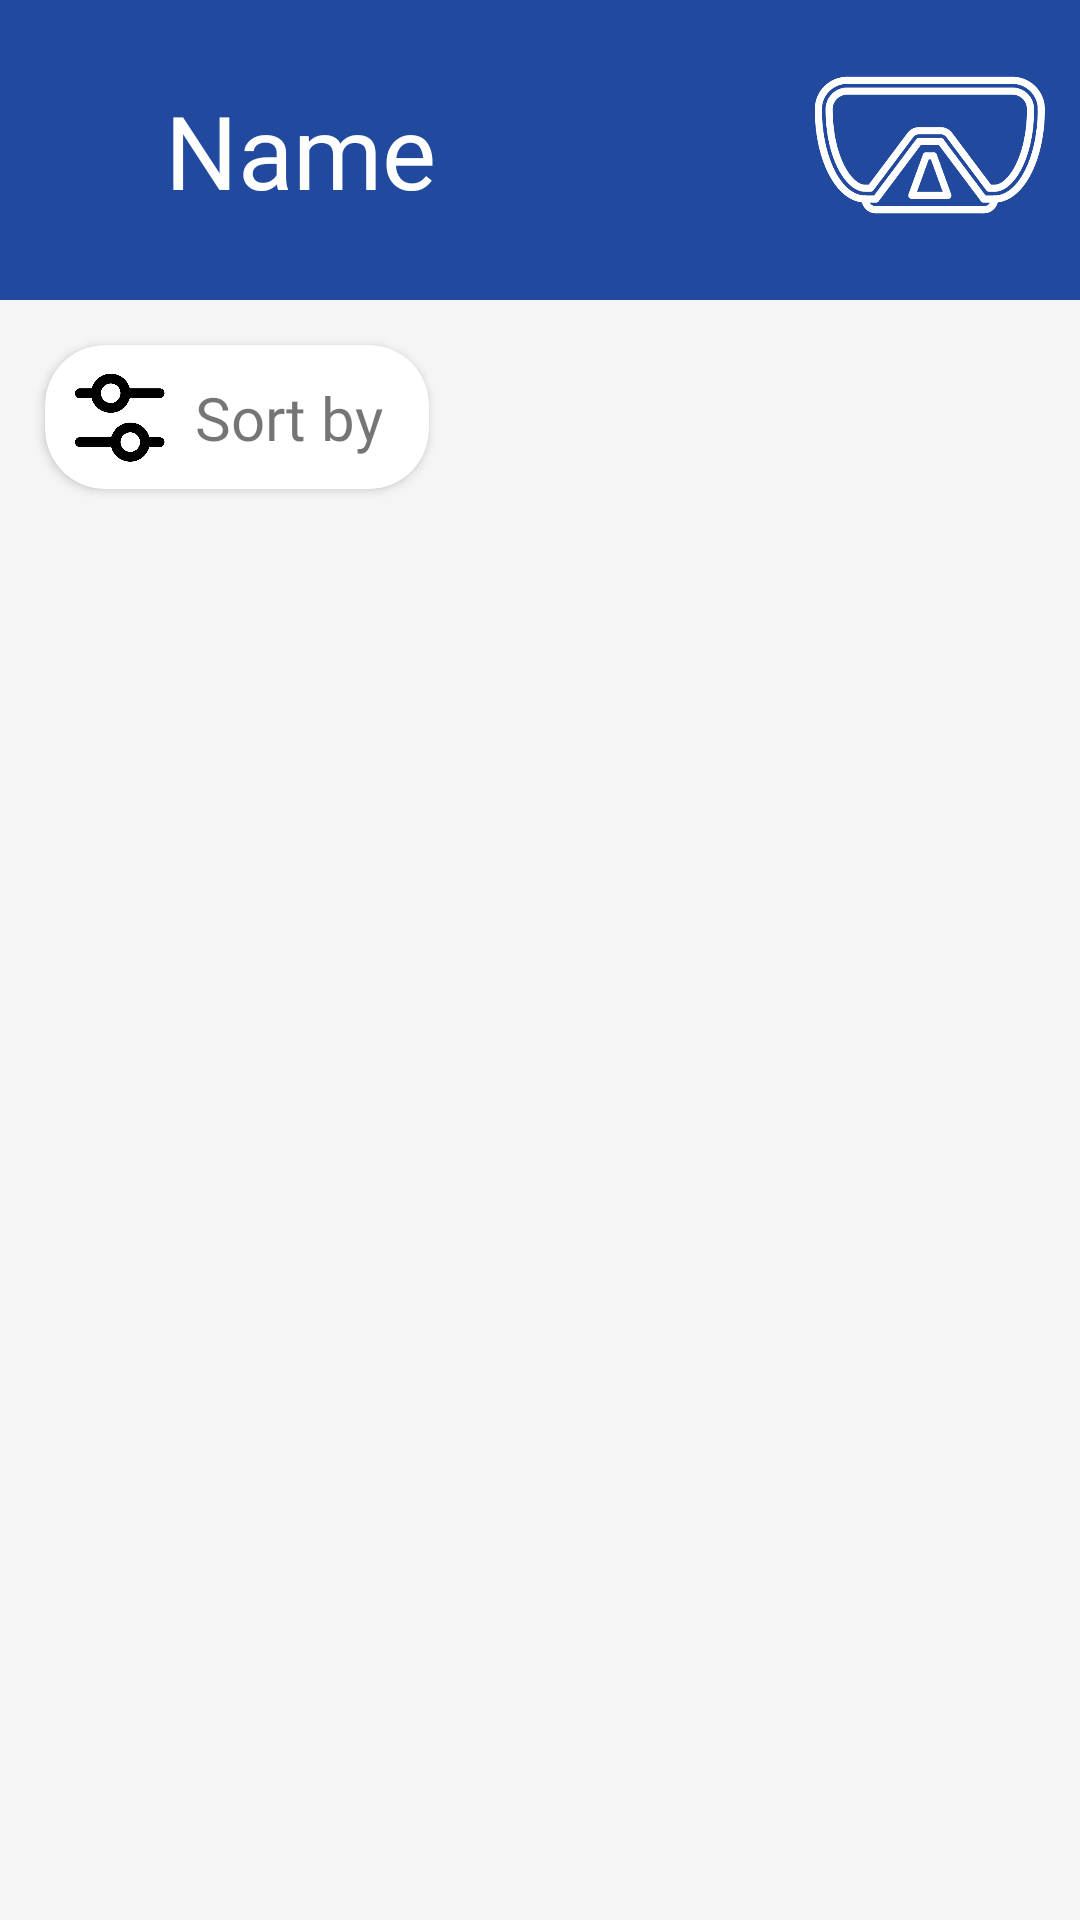

Named icons in this screenshot (1080px×1920px) and their bounding boxes, (x1, y1, x2, y2):
refine: (45, 345, 195, 489)
